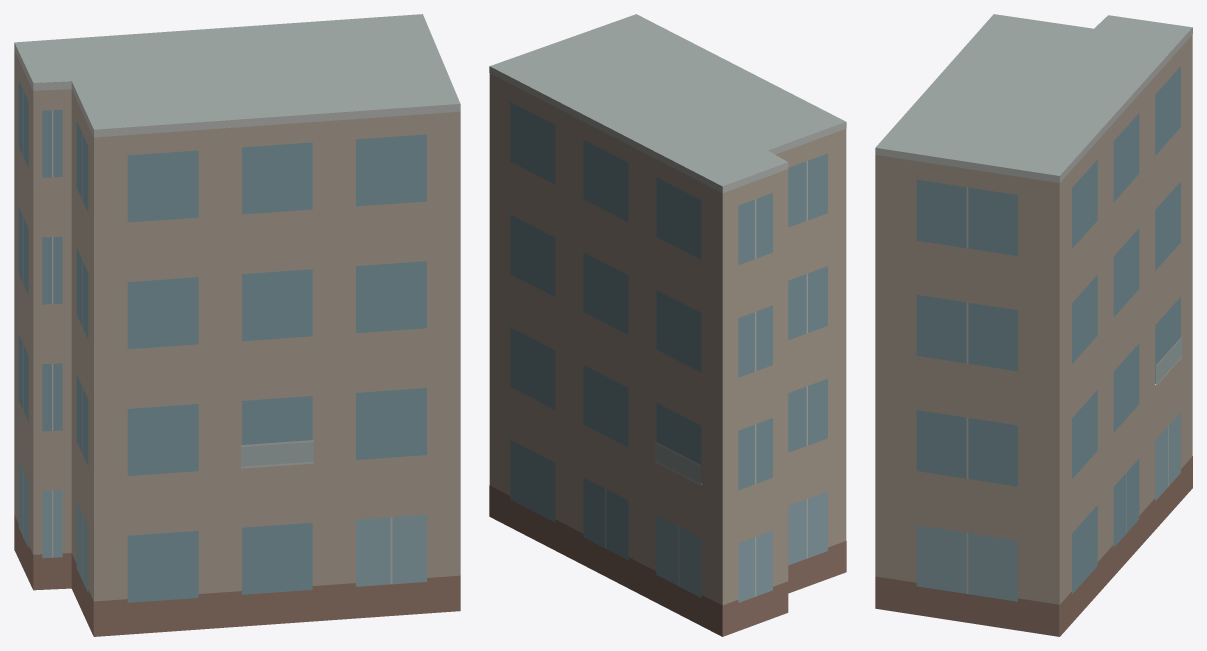
The model's file is survey-upis-33033836.glb.
The picture shows the model from 3 angles, left to right: view 1: azimuth 30°, elevation 25°; view 2: azimuth 150°, elevation 25°; view 3: azimuth 270°, elevation 25°; orthographic projection. The views are drawn at different scales.
Parts seen in each view (by area): view 1: survey-upis-33033836.tmp; view 2: survey-upis-33033836.tmp; view 3: survey-upis-33033836.tmp.
Boxes of the visible parts, box(x1,y1,x2,y2) form: survey-upis-33033836.tmp: box(14, 14, 460, 636); survey-upis-33033836.tmp: box(489, 14, 846, 636); survey-upis-33033836.tmp: box(875, 14, 1192, 636).
Bounding box in the file's own units: 12.07 × 16 × 10.
